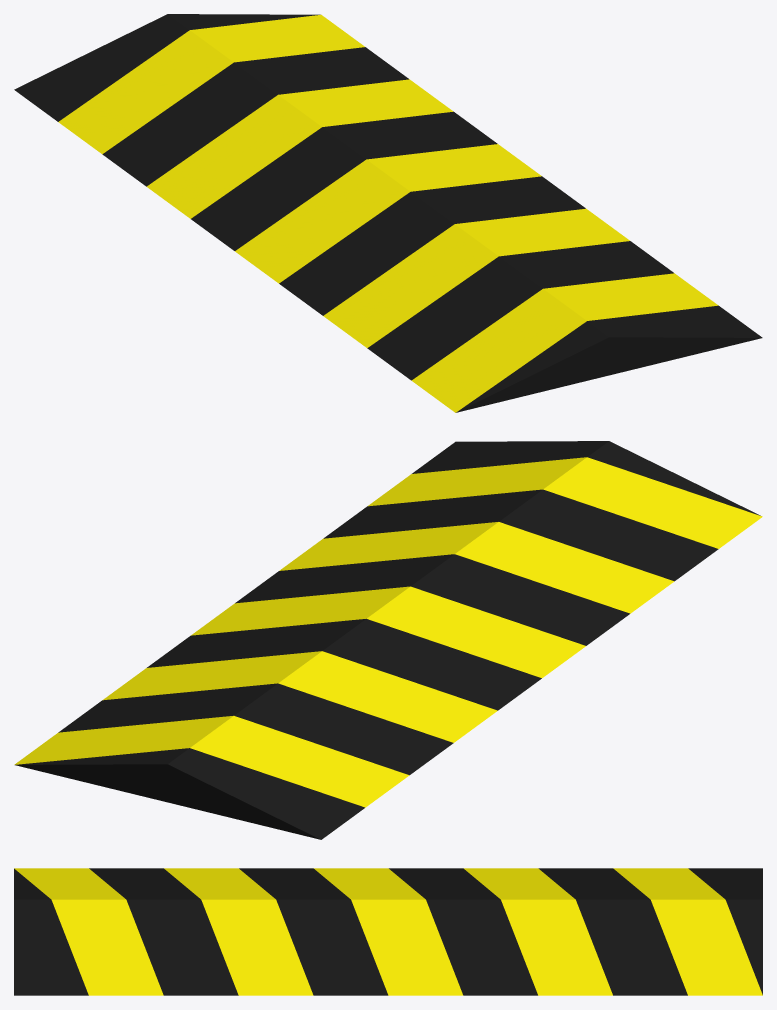
The model's file is speed_bump.fbx.
3 renders of one model, top to bottom at view 1: azimuth 30°, elevation 25°; view 2: azimuth 150°, elevation 25°; view 3: azimuth 270°, elevation 25°, orthographic. The views are drawn at different scales.
Parts seen in each view (by area): view 1: speed_bump; view 2: speed_bump; view 3: speed_bump.
Boxes of the visible parts, left/top/right/bottom form: speed_bump: left=14, top=14, right=762, bottom=412; speed_bump: left=14, top=441, right=762, bottom=839; speed_bump: left=14, top=868, right=762, bottom=995.
Size of the model in its own units: 280 by 33.26 by 696.
